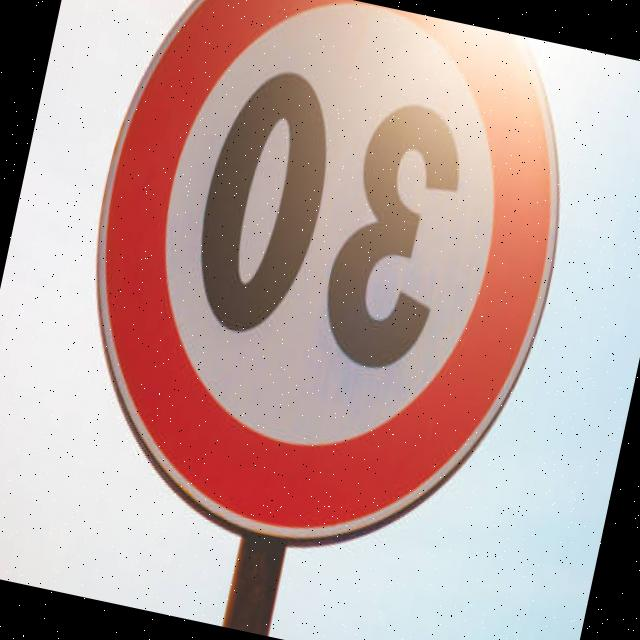speed_limit_30: (30, 0, 607, 594)
